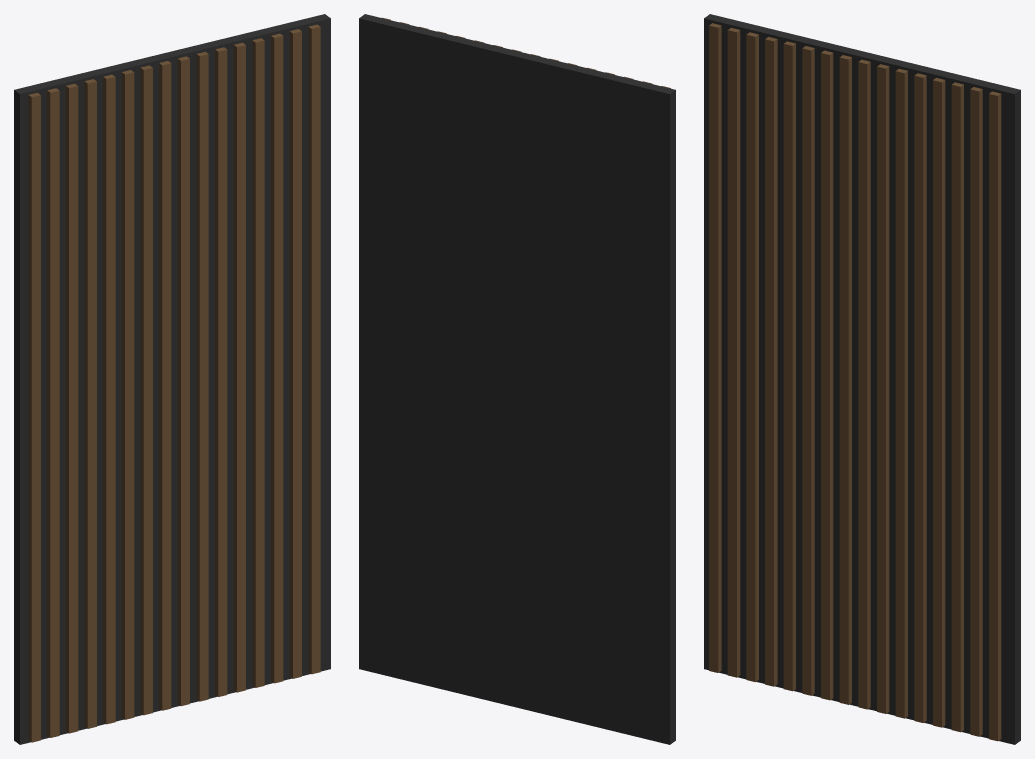
The model's file is podcast_acoustic_diffuser.glb.
The picture shows the model from 3 angles, left to right: view 1: azimuth 30°, elevation 25°; view 2: azimuth 150°, elevation 25°; view 3: azimuth 330°, elevation 25°; orthographic projection.
Visible parts, largest first — view 1: Podcast_Acoustic_Diffuser; view 2: Podcast_Acoustic_Diffuser; view 3: Podcast_Acoustic_Diffuser.
Boxes of the visible parts, x1,y1,x2,y2 form: Podcast_Acoustic_Diffuser: (14, 14, 330, 744); Podcast_Acoustic_Diffuser: (359, 14, 675, 744); Podcast_Acoustic_Diffuser: (704, 14, 1020, 744).
Bounding box in the file's own units: 1.2 × 2.4 × 0.0625.
